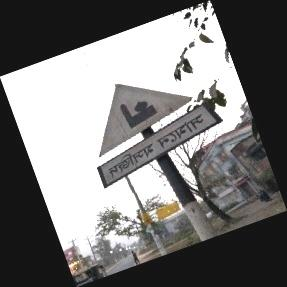Mosque in front: (96, 83, 222, 194)
